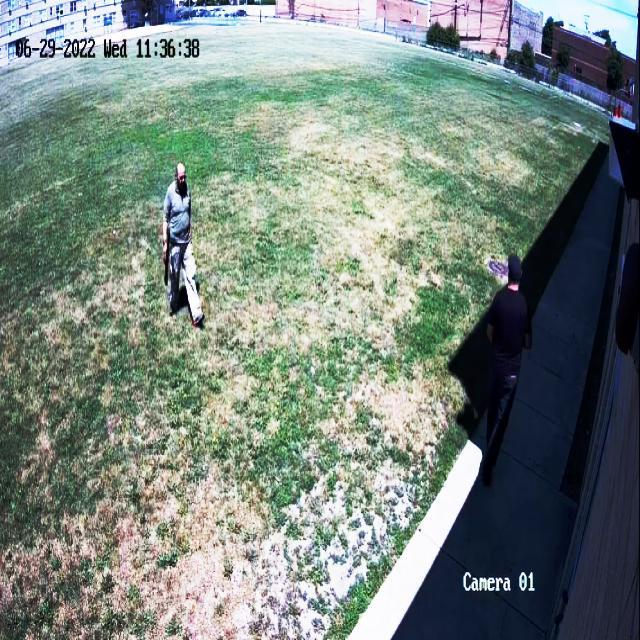Gun: (159, 241, 183, 292)
